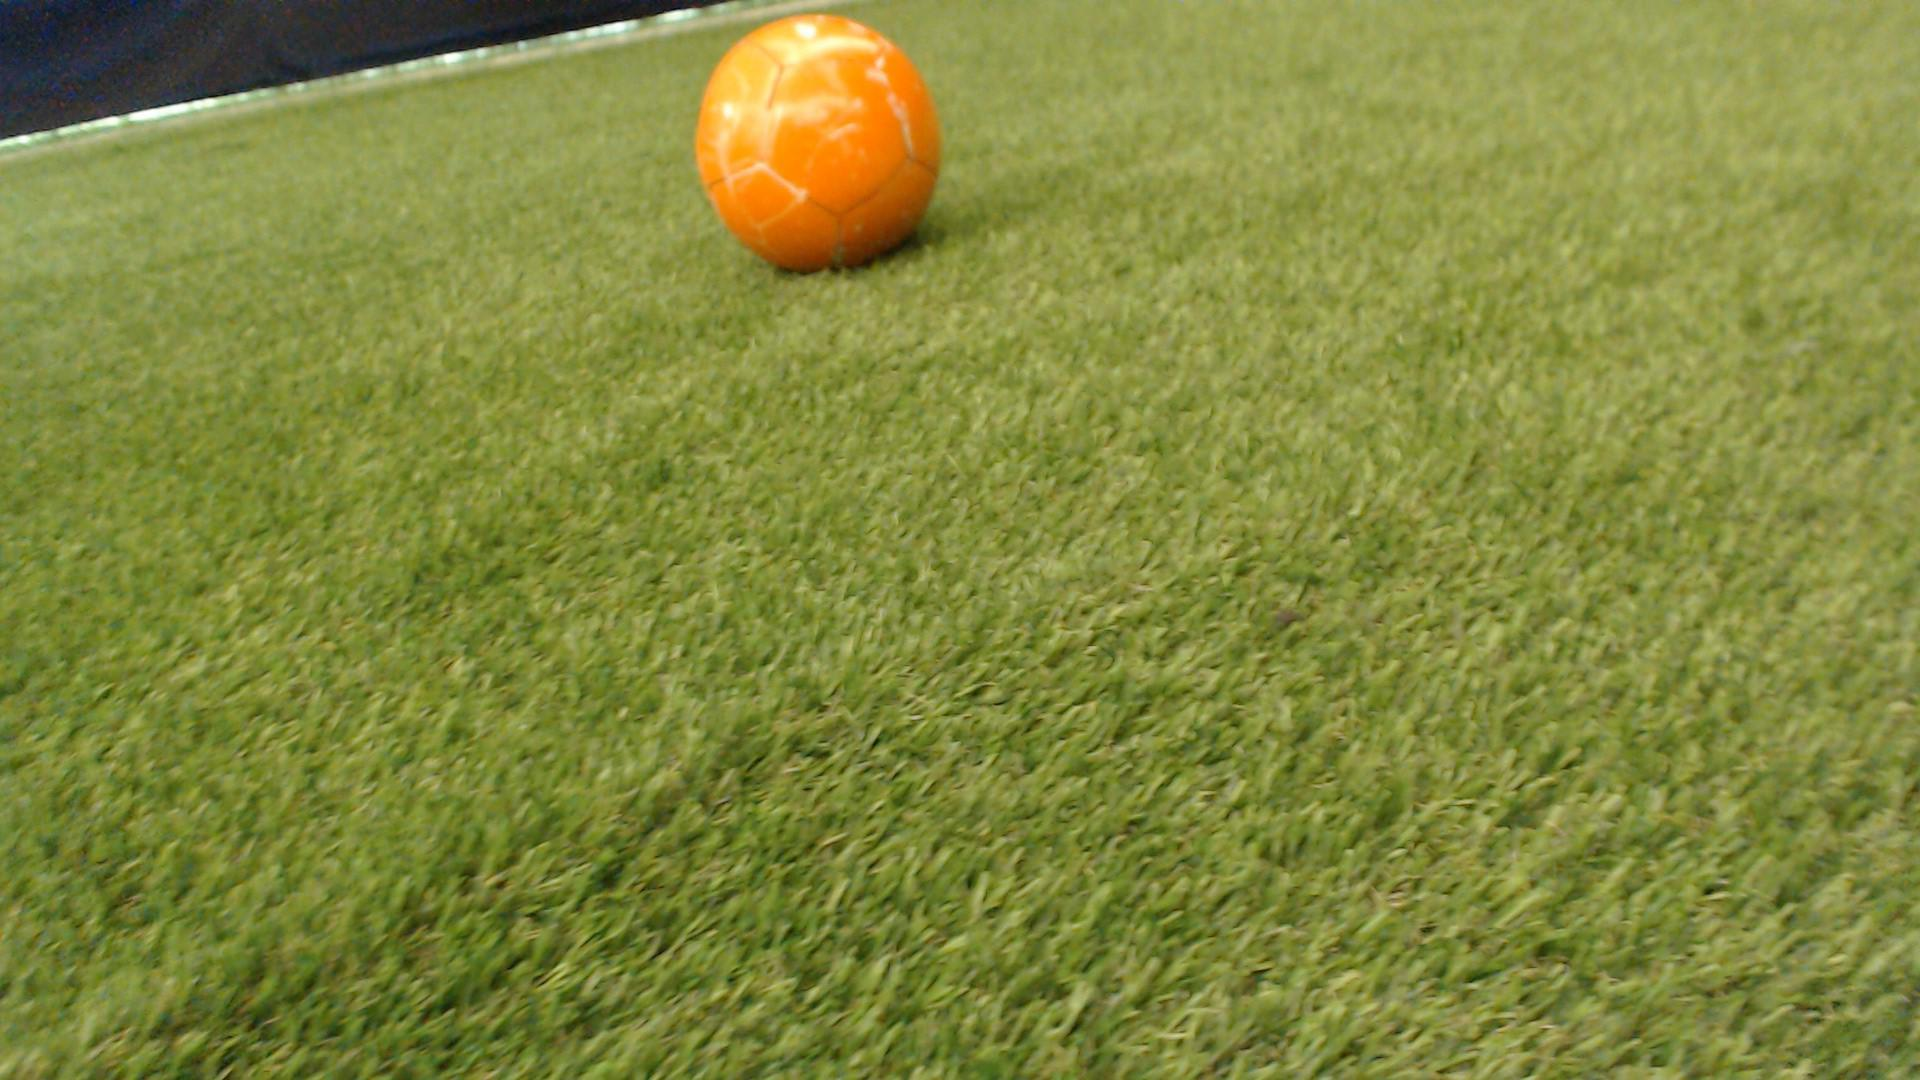bola: (676, 0, 986, 295)
